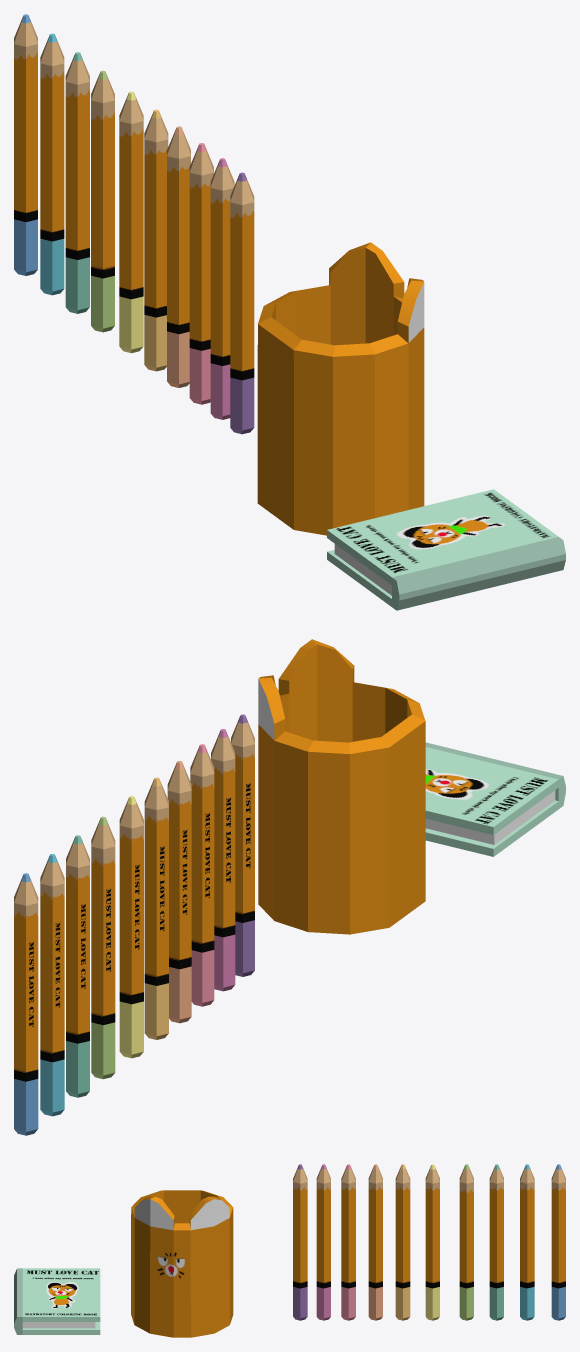
The model's file is clouring book.fbx.
The picture shows the model from 3 angles, top to bottom: view 1: azimuth 30°, elevation 25°; view 2: azimuth 150°, elevation 25°; view 3: azimuth 270°, elevation 25°; orthographic projection. The views are drawn at different scales.
Parts seen in each view (by area): view 1: pencil_holder, clouring_book, pencil5, pencil1, pencil7, pencil8, pencil9, pencil6, pencil3, pencil4, pencil2, pencil; view 2: pencil_holder, clouring_book, pencil3, pencil5, pencil6, pencil8, pencil9, pencil2, pencil7, pencil4, pencil, pencil1; view 3: pencil_holder, clouring_book, pencil3, pencil1, pencil2, pencil8, pencil5, pencil6, pencil9, pencil, pencil4, pencil7.
Part boxes in pixels (bbox=[...]): pencil_holder: bbox=[257, 242, 424, 535]; clouring_book: bbox=[327, 489, 565, 610]; pencil5: bbox=[119, 91, 143, 353]; pencil1: bbox=[230, 172, 254, 434]; pencil7: bbox=[65, 52, 89, 313]; pencil8: bbox=[40, 33, 64, 295]; pencil9: bbox=[14, 14, 37, 275]; pencil6: bbox=[91, 70, 114, 332]; pencil3: bbox=[144, 109, 168, 371]; pencil4: bbox=[167, 126, 190, 387]; pencil2: bbox=[189, 143, 213, 404]; pencil: bbox=[210, 158, 234, 419]; pencil_holder: bbox=[258, 639, 425, 934]; clouring_book: bbox=[425, 742, 565, 856]; pencil3: bbox=[144, 777, 168, 1039]; pencil5: bbox=[119, 795, 143, 1058]; pencil6: bbox=[91, 816, 115, 1079]; pencil8: bbox=[40, 854, 64, 1116]; pencil9: bbox=[14, 873, 38, 1135]; pencil2: bbox=[190, 744, 214, 1006]; pencil7: bbox=[66, 835, 89, 1097]; pencil4: bbox=[167, 761, 191, 1023]; pencil: bbox=[211, 729, 235, 991]; pencil1: bbox=[231, 714, 254, 976]; pencil_holder: bbox=[131, 1190, 233, 1337]; clouring_book: bbox=[14, 1268, 100, 1334]; pencil3: bbox=[395, 1164, 410, 1320]; pencil1: bbox=[293, 1164, 307, 1320]; pencil2: bbox=[341, 1164, 355, 1320]; pencil8: bbox=[520, 1164, 534, 1320]; pencil5: bbox=[425, 1164, 439, 1320]; pencil6: bbox=[459, 1164, 473, 1320]; pencil9: bbox=[551, 1164, 565, 1320]; pencil: bbox=[316, 1164, 330, 1320]; pencil4: bbox=[368, 1164, 382, 1320]; pencil7: bbox=[489, 1164, 503, 1320].
Bounding box in the file's own units: 0.6951 × 1.02 × 3.33.
Materials: 1 (1 with a texture image).
